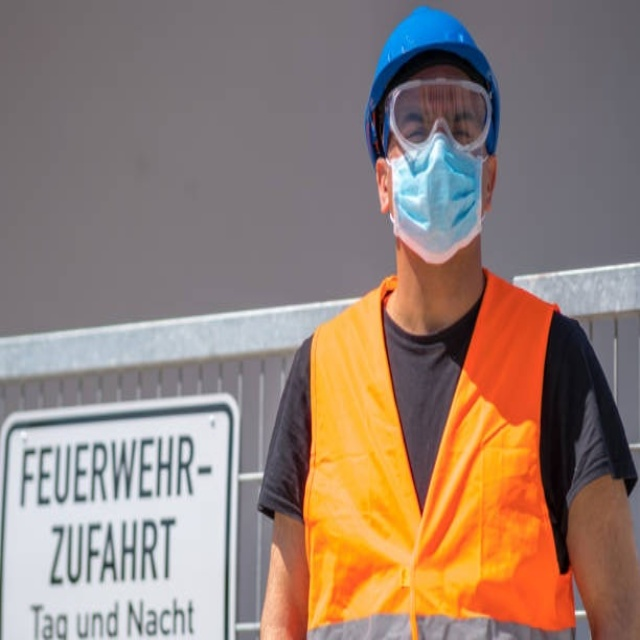Gafas: (377, 78, 494, 161)
Mascara: (384, 124, 490, 268)
